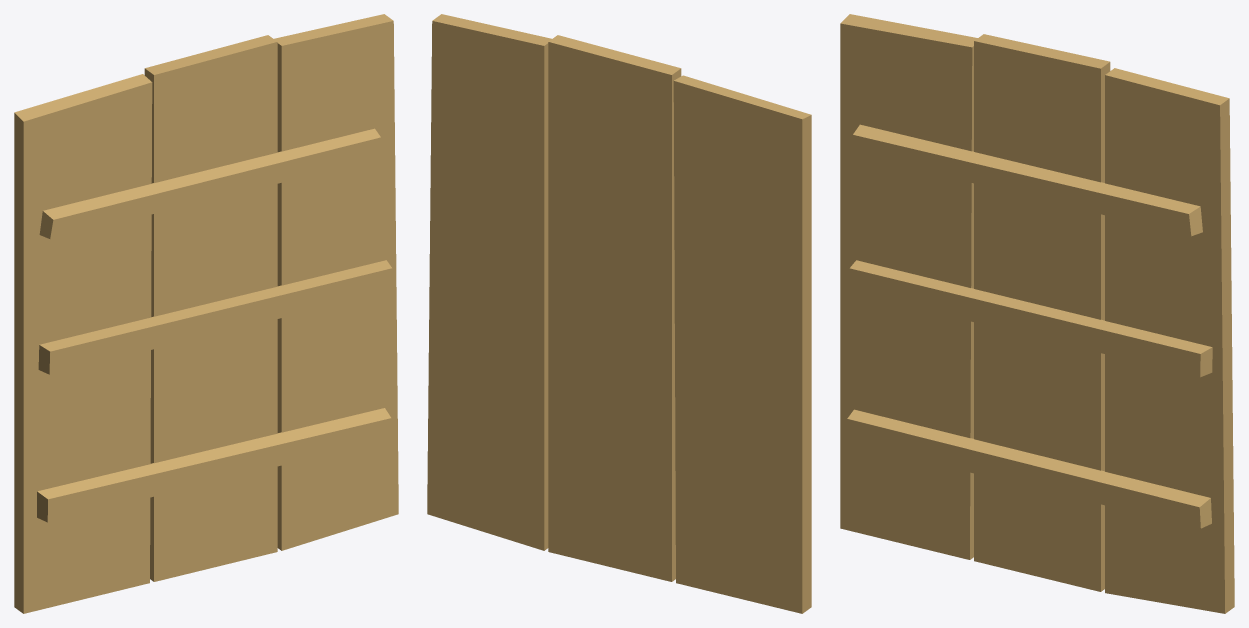
File: ladder.02.glb
The picture shows the model from 3 angles, left to right: view 1: azimuth 30°, elevation 25°; view 2: azimuth 150°, elevation 25°; view 3: azimuth 330°, elevation 25°; orthographic projection. The views are drawn at different scales.
Parts seen in each view (by area): view 1: Cube.125; view 2: Cube.125; view 3: Cube.125.
Boxes of the visible parts, x1,y1,x2,y2 form: Cube.125: (14, 14, 398, 613); Cube.125: (427, 14, 811, 613); Cube.125: (840, 14, 1234, 613).
Size of the model in its own units: 0.5689 by 0.7391 by 0.0476.
Materials: 1 (1 with a texture image).
